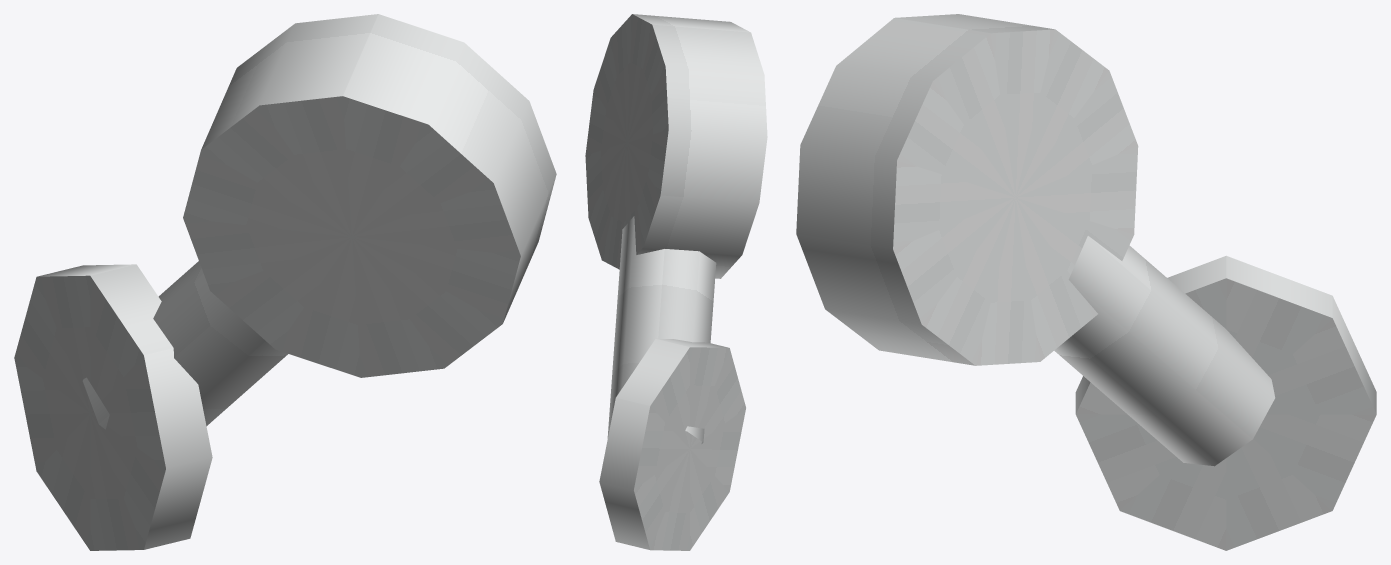
The model's file is nycsignalarm_stub_203.obj.
3 renders of one model, left to right at view 1: azimuth 30°, elevation 25°; view 2: azimuth 150°, elevation 25°; view 3: azimuth 270°, elevation 25°, orthographic. The views are drawn at different scales.
Visible parts, largest first — view 1: nycsignalarm_stub_203; view 2: nycsignalarm_stub_203; view 3: nycsignalarm_stub_203.
Part boxes in pixels (left/top/right/bottom): nycsignalarm_stub_203: left=14, top=14, right=556, bottom=550; nycsignalarm_stub_203: left=585, top=14, right=767, bottom=550; nycsignalarm_stub_203: left=796, top=14, right=1376, bottom=550.
Size of the model in its own units: 0.4035 by 0.7407 by 0.675.
